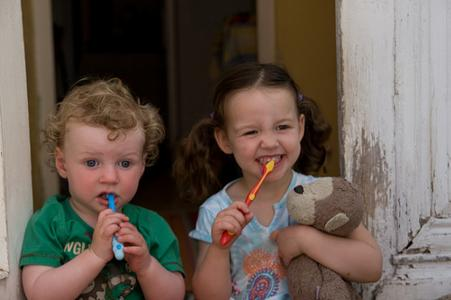person: (191, 62, 386, 300)
